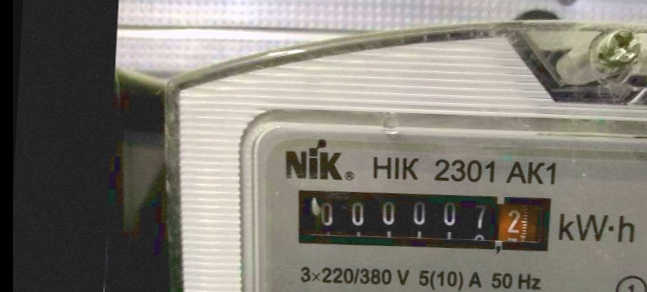0: (379, 197, 399, 225), (349, 198, 368, 227), (318, 198, 337, 226), (441, 198, 459, 226), (411, 197, 428, 225)
2: (506, 205, 524, 235)
7: (471, 200, 489, 230)
screen: (288, 175, 565, 261)
